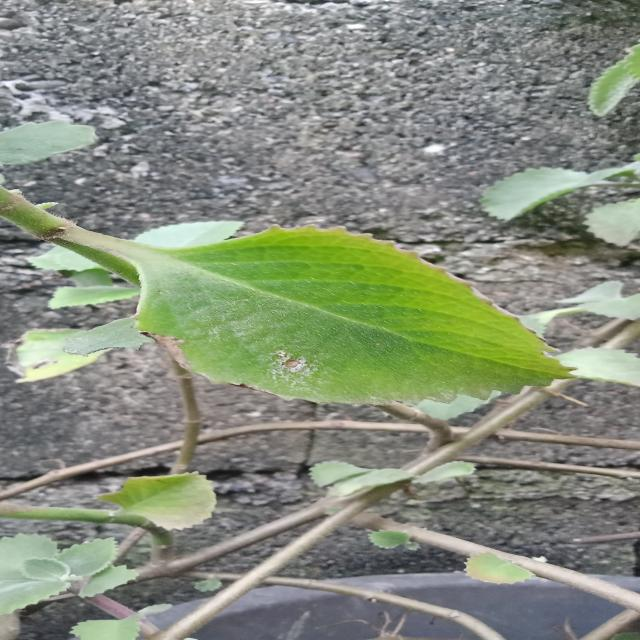Oregano: (100, 214, 596, 428)
